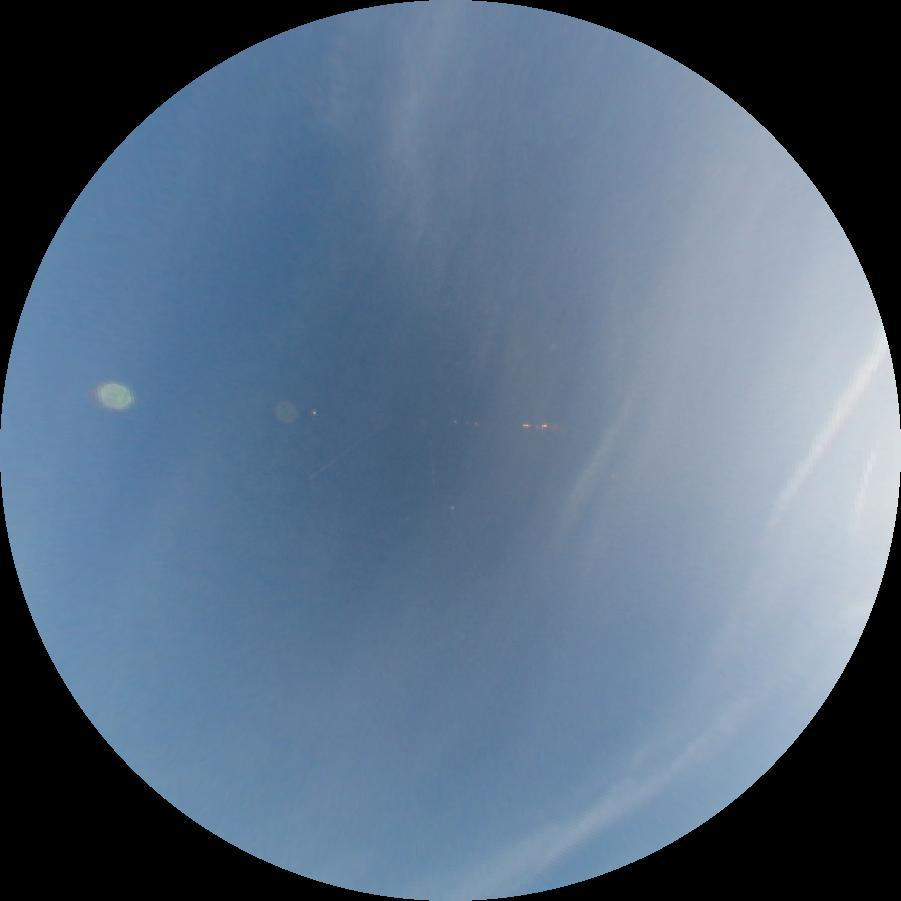contrail veryold: (766, 333, 894, 519)
contrail young: (306, 427, 382, 481)
